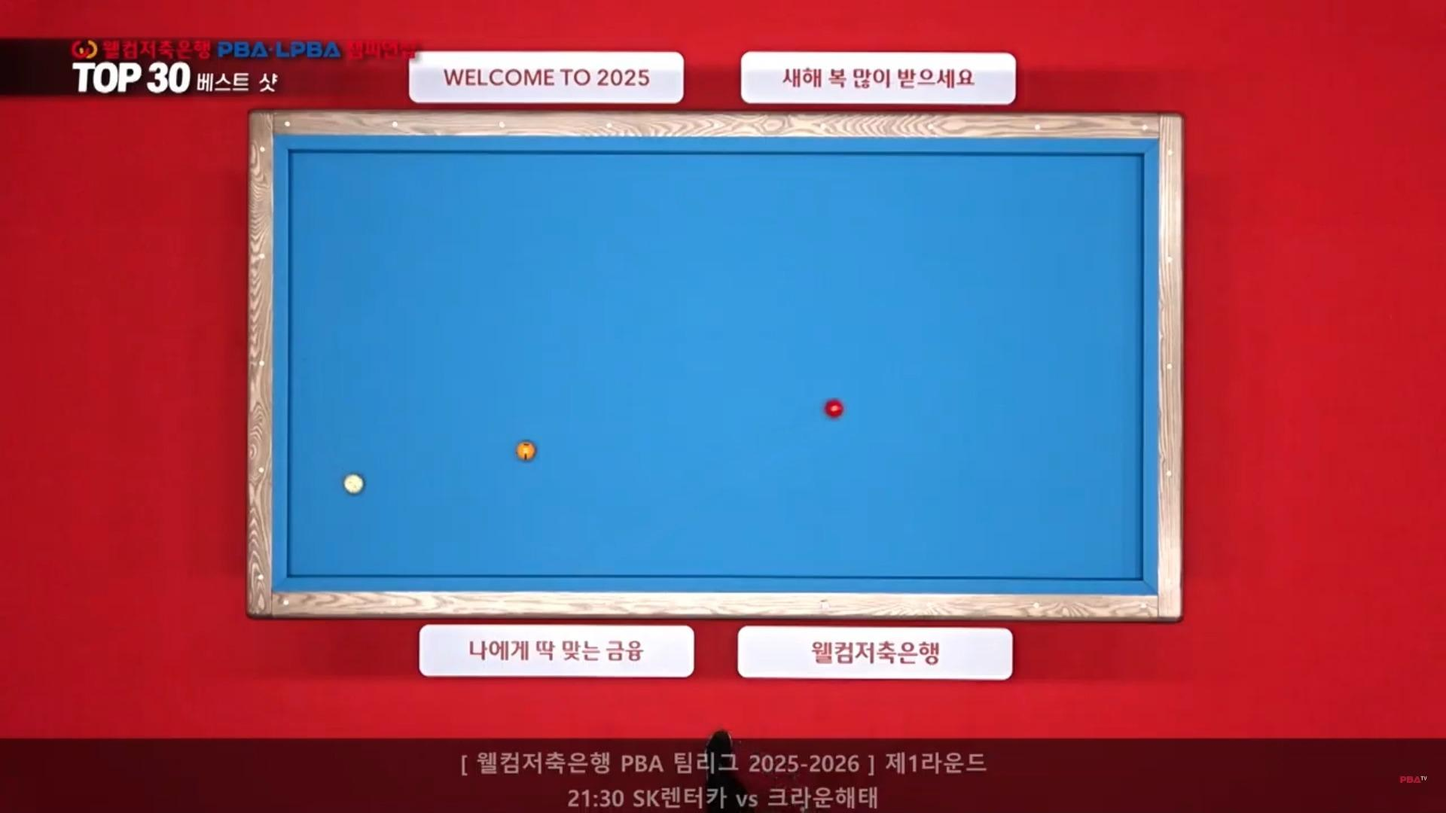Red: (820, 400, 845, 419)
White: (339, 474, 365, 496)
billiard-ball-Yellow: (515, 439, 536, 458)
